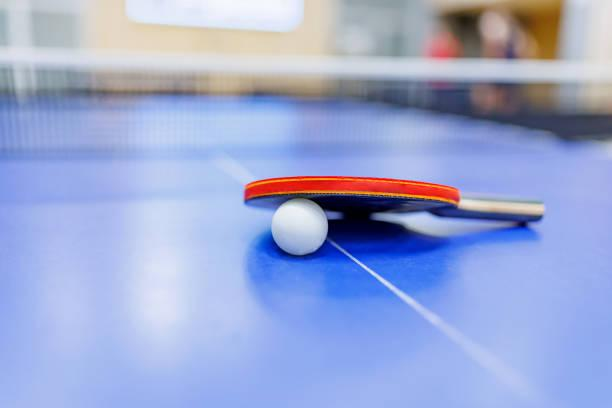ball_pingpong: (269, 196, 329, 258)
